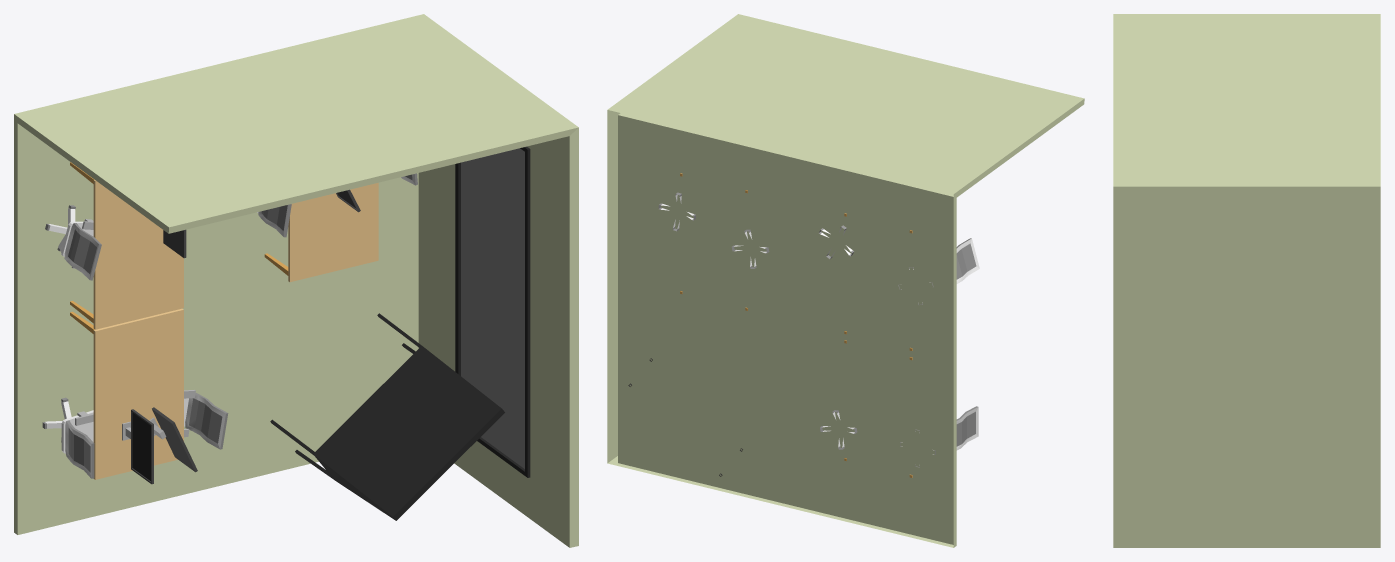
3 renders of one model, left to right at view 1: azimuth 30°, elevation 25°; view 2: azimuth 150°, elevation 25°; view 3: azimuth 270°, elevation 25°, orthographic. The views are drawn at different scales.
Parts seen in each view (by area): view 1: Cube.045, Cube, Cube.015, Cube.003, Cube.043, Cube.063, Cube.030, Cube.086, Cube.024, Cube.006, Cube.004, Cube.014 (+1 smaller); view 2: Cube.045, Cube.006, Cube.024; view 3: Cube.045.
Part boxes in pixels (left/top/right/bottom): Cube.045: left=14, top=14, right=578, bottom=547; Cube: left=270, top=313, right=504, bottom=520; Cube.015: left=93, top=319, right=139, bottom=479; Cube.003: left=93, top=179, right=139, bottom=329; Cube.043: left=138, top=308, right=183, bottom=465; Cube.063: left=288, top=193, right=334, bottom=282; Cube.030: left=139, top=213, right=183, bottom=318; Cube.086: left=334, top=182, right=378, bottom=271; Cube.024: left=42, top=397, right=94, bottom=478; Cube.006: left=45, top=205, right=101, bottom=280; Cube.004: left=184, top=390, right=228, bottom=449; Cube.014: left=131, top=409, right=153, bottom=484; Cube.045: left=607, top=14, right=1084, bottom=547; Cube.006: left=898, top=238, right=979, bottom=304; Cube.024: left=900, top=406, right=978, bottom=467; Cube.045: left=1113, top=14, right=1380, bottom=547.
Bounding box in the file's own units: 6.11 × 5.96 × 4.
